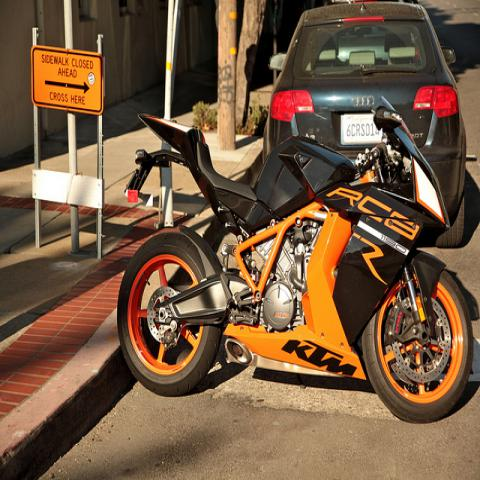car: (260, 2, 468, 251)
motorcycle: (120, 85, 479, 431)
